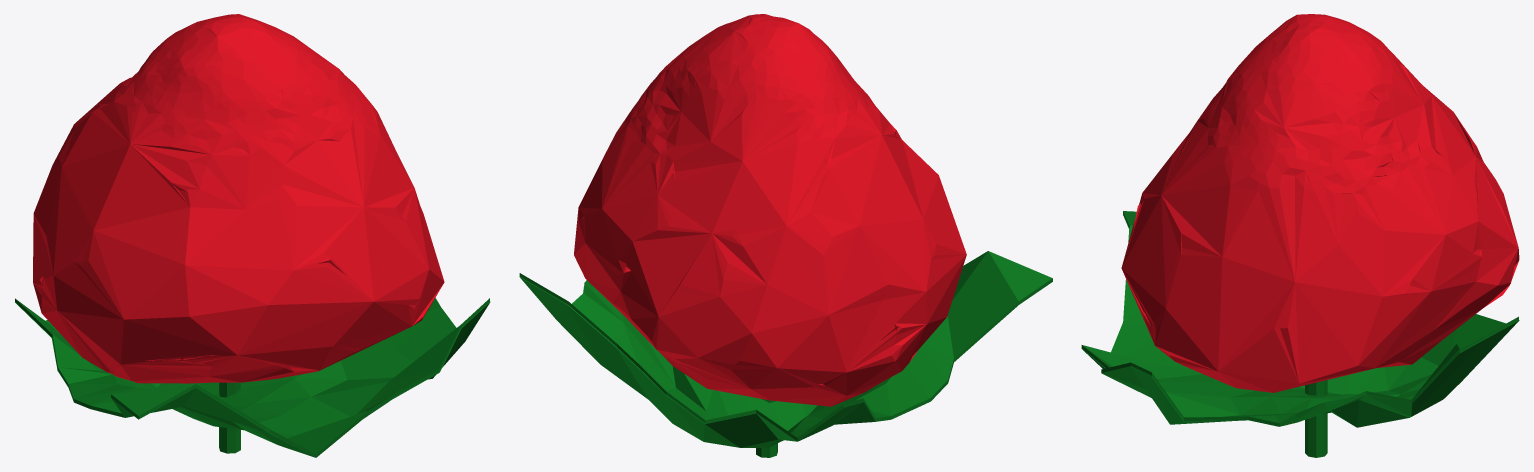
The model's file is ripeberry.dae.
3 renders of one model, left to right at view 1: azimuth 30°, elevation 25°; view 2: azimuth 150°, elevation 25°; view 3: azimuth 270°, elevation 25°, orthographic.
Visible parts, largest first — view 1: 1Mberry; view 2: 1Mberry; view 3: 1Mberry.
Boxes of the visible parts, box(x1,y1,x2,y2) form: 1Mberry: box(15, 14, 490, 457); 1Mberry: box(519, 14, 1052, 457); 1Mberry: box(1081, 14, 1519, 457).
Bounding box in the file's own units: 1.09 × 1.1 × 1.19.
